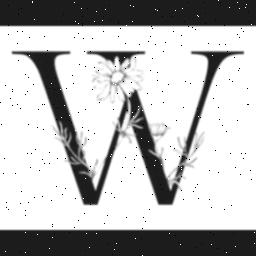x: (9, 46, 249, 212)
